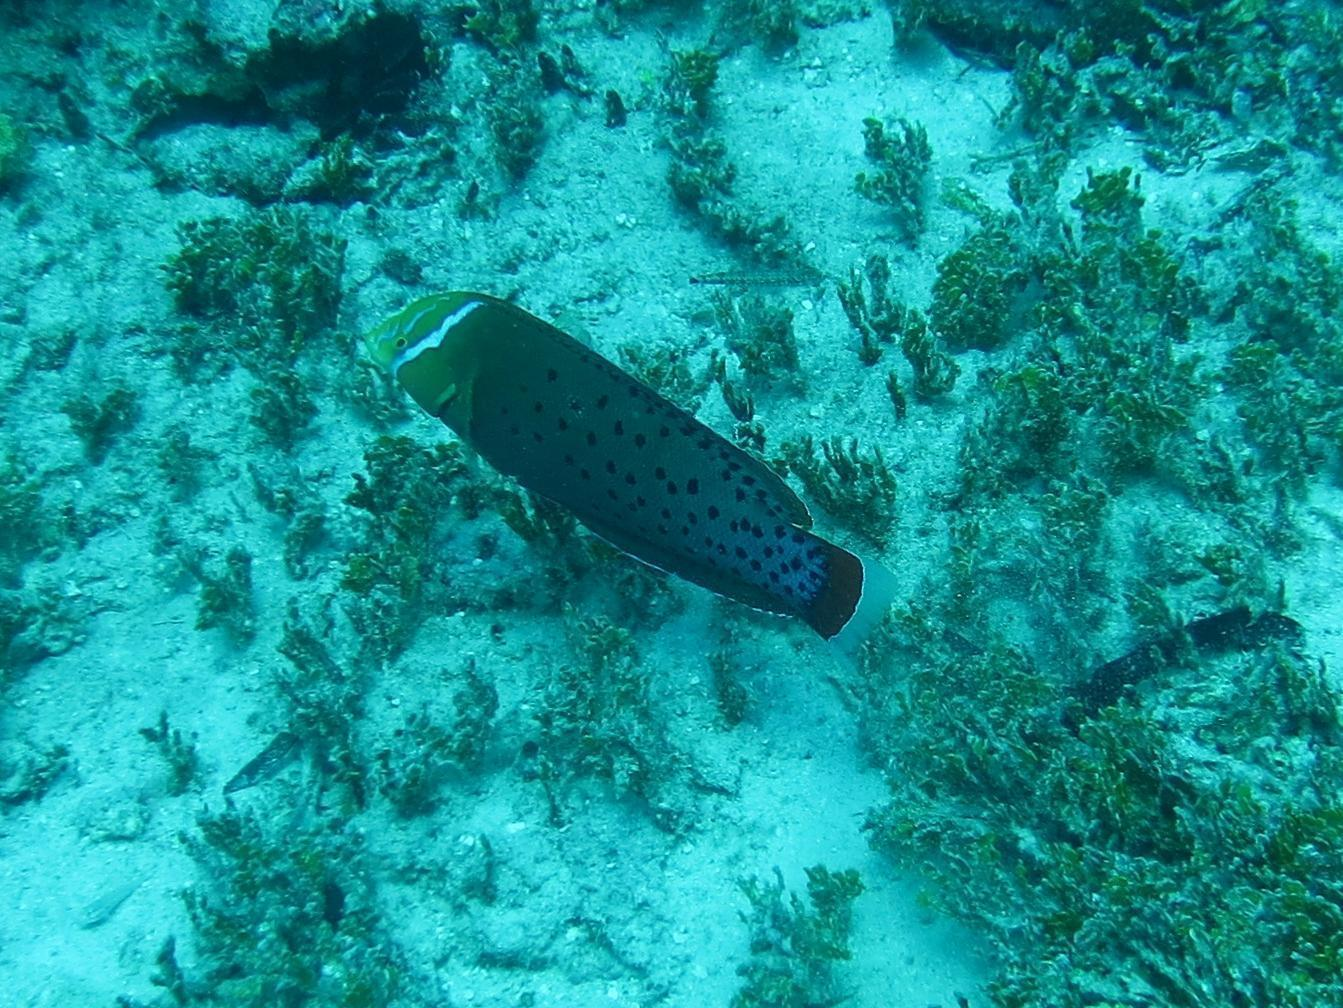Fish: (353, 287, 900, 656)
